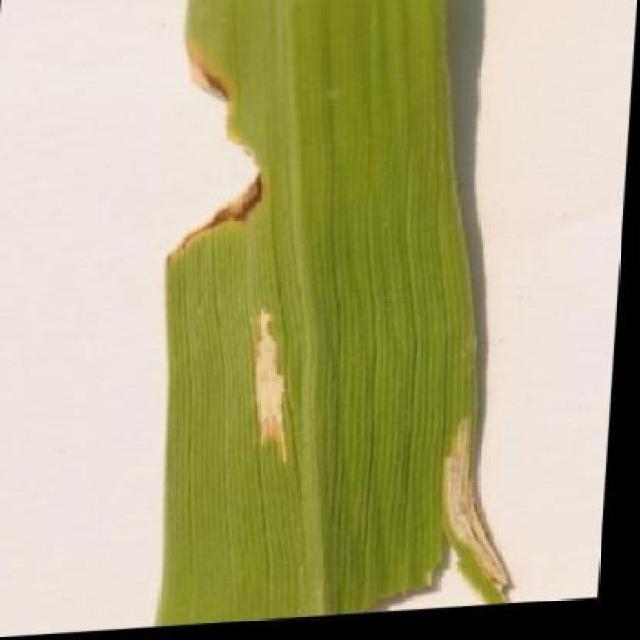Brown_Spot: (130, 0, 582, 631)
